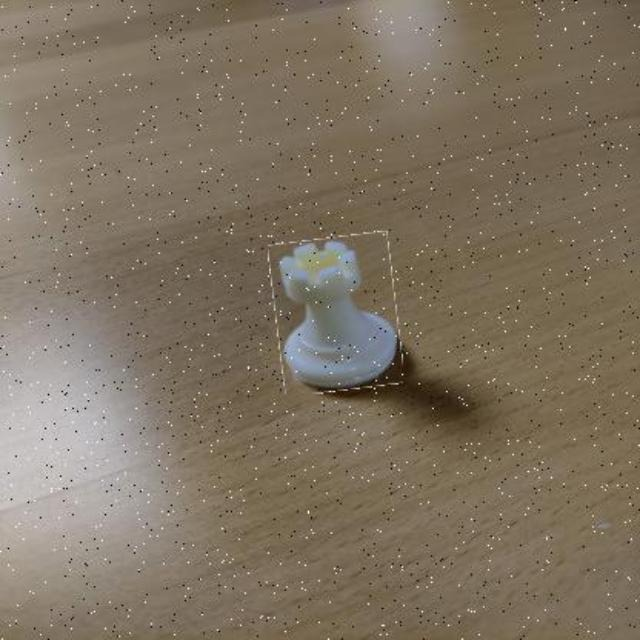white-rook: (273, 234, 400, 392)
